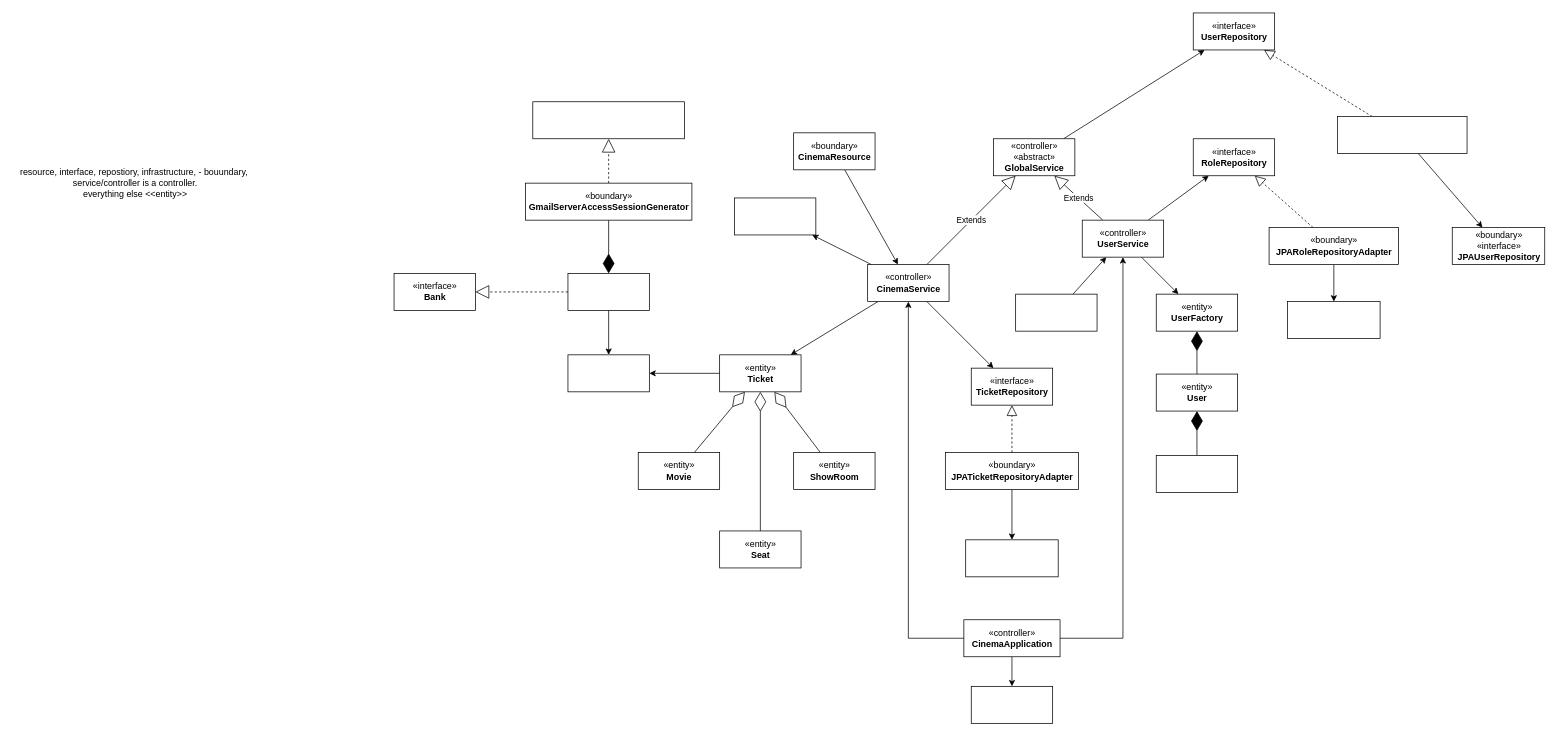
Some shapes in this 1558 by 736 pixel diagram are drawn without their labels. The box of each missing label's shape, as (x1, y1, x2, y2) in pixels:
«boundary» BankDummy: (567, 273, 649, 310)
«boundary» JPAUserRepositoryAdapter: (1337, 116, 1467, 154)
«boundary» UserResource: (1015, 293, 1097, 331)
«boundary» «interface» JPARoleRepository: (1287, 301, 1380, 339)
«boundary» «interface» ServerAccessSessionGenerator: (532, 101, 684, 139)
«controller» GuiController: (971, 686, 1053, 723)
«entity» Payment: (567, 354, 649, 392)
«entity» Role: (1156, 455, 1238, 492)
«entity» «interface» TicketRepository: (734, 197, 816, 235)
«interface» JPATicketRepository: (965, 539, 1058, 577)
